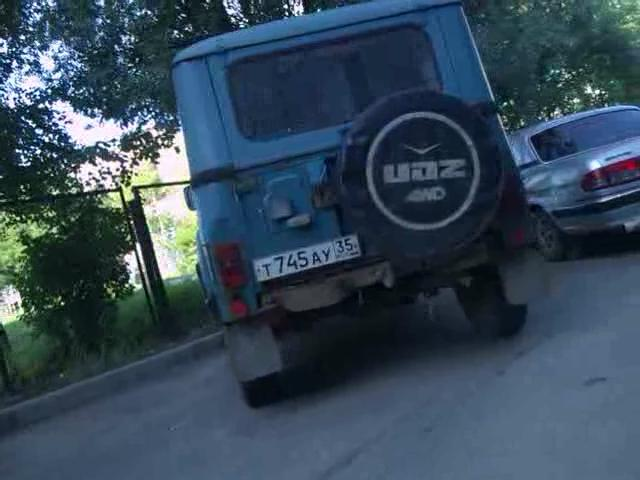car license plate: (251, 232, 361, 290)
